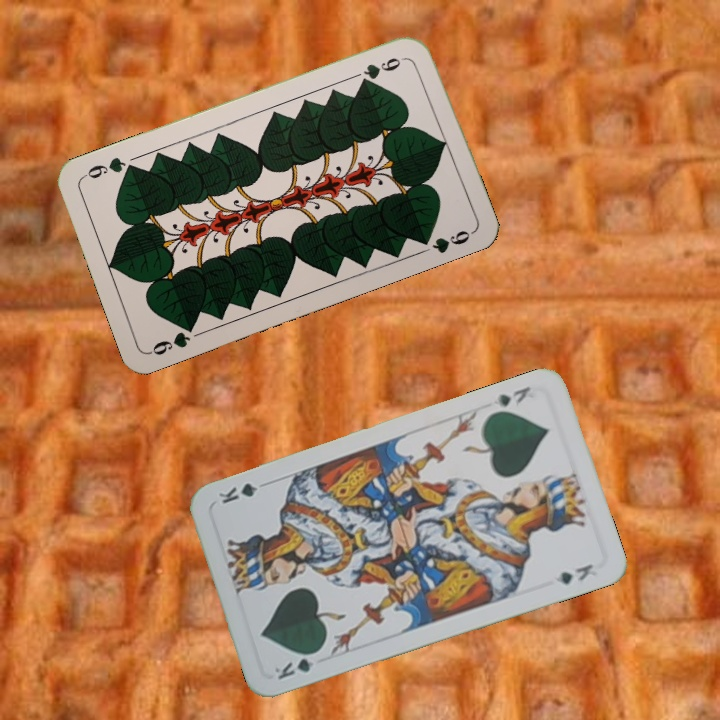G9: (146, 319, 198, 358), (352, 53, 410, 87)
GK: (270, 646, 324, 683), (489, 382, 533, 410)
